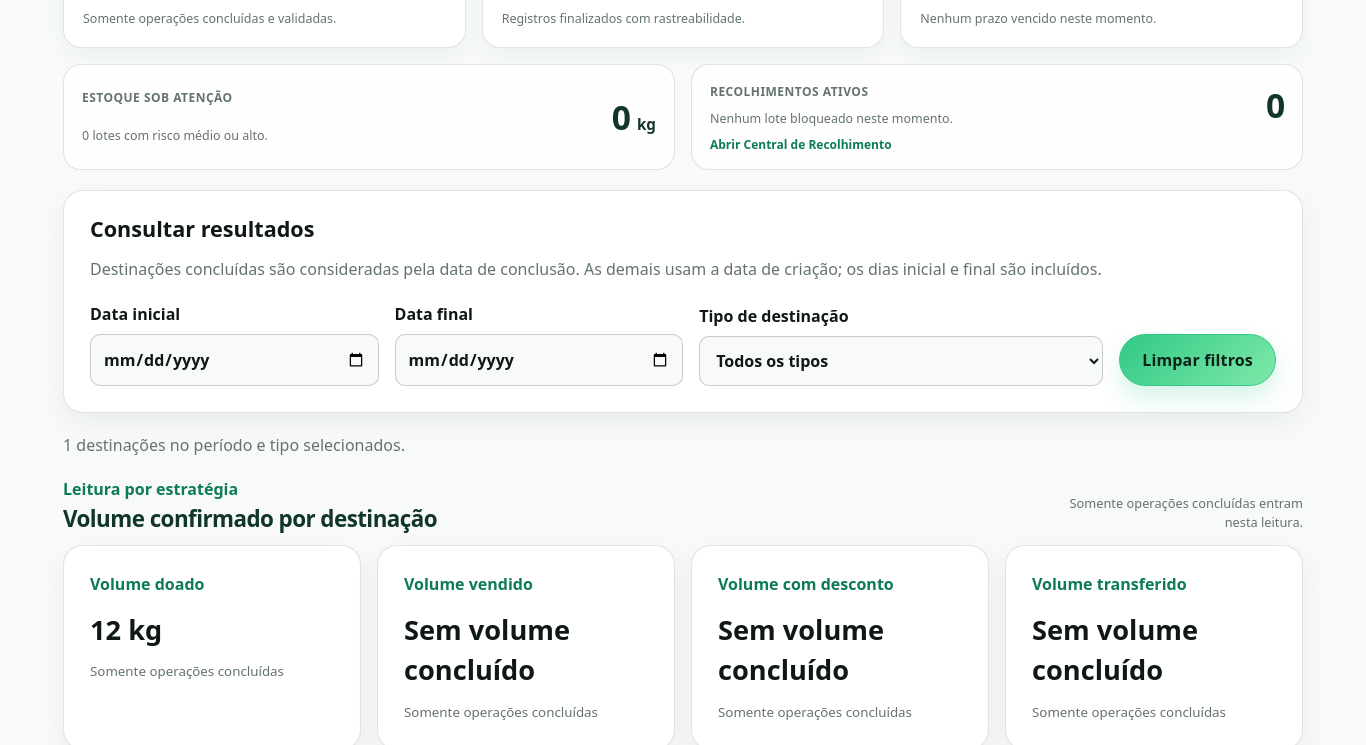
it: filters records, resets and updates totals when an operation completes
The width and height of the screenshot is (1366, 745).
(page scrolled)
Expected: the text "1 destinações no período e tipo selecionados." is shown, [63, 434, 405, 456]
Expected: the text "12 kg" is shown, [90, 611, 162, 648]
Step 1. Select "Venda prioritária" in the dropdown labelled "Tipo de destinação" → (901, 362), box [699, 336, 1103, 386]
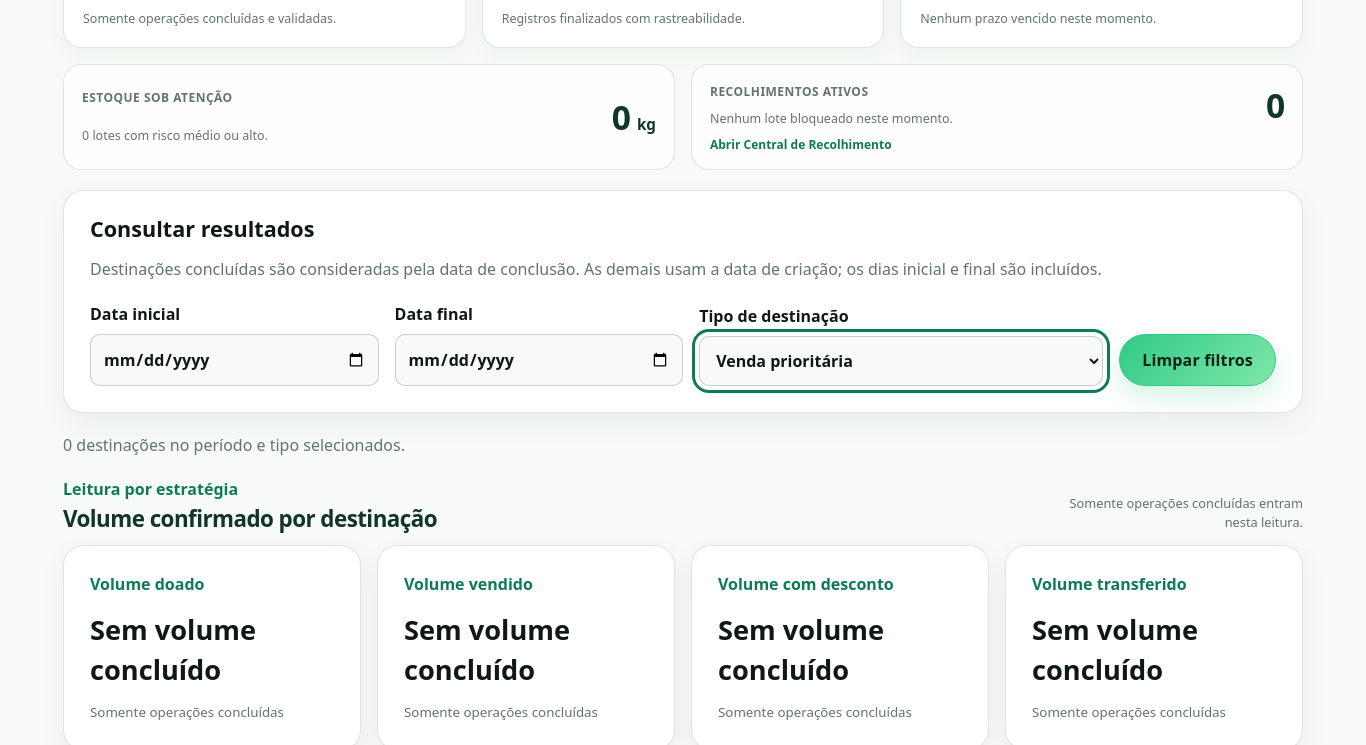
Expected: the text "0 destinações no período e tipo selecionados." is shown, [63, 434, 405, 456]
Step 2. Click the button "Limpar filtros" → (1198, 360), box [1119, 334, 1276, 386]
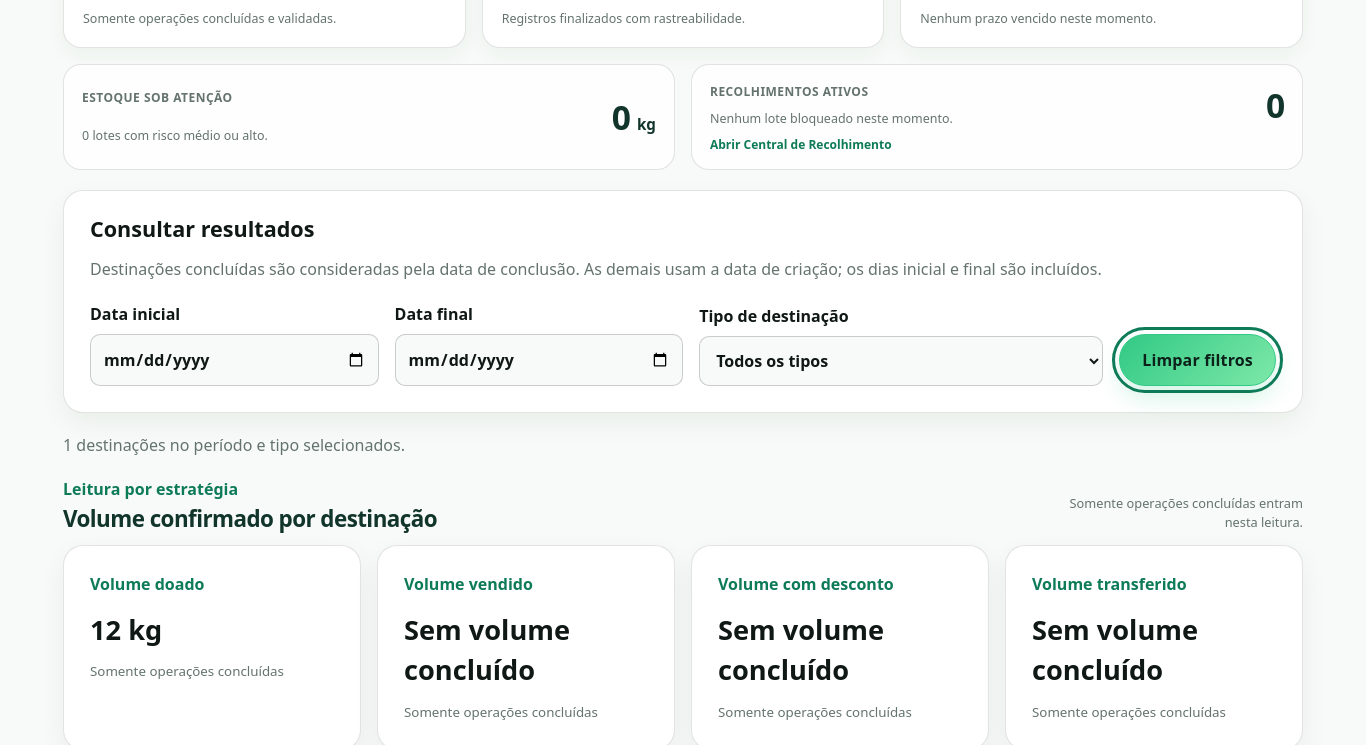
Expected: the text "12 kg" is shown, [90, 611, 162, 648]
